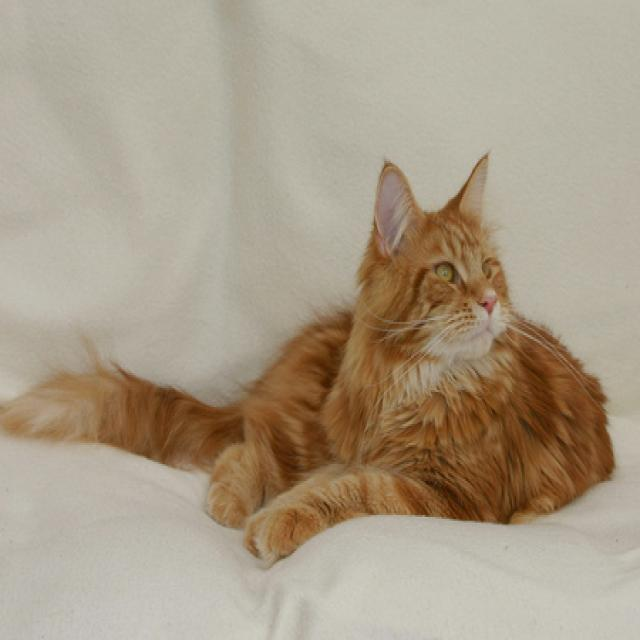Maine Coon: (0, 146, 620, 560)
